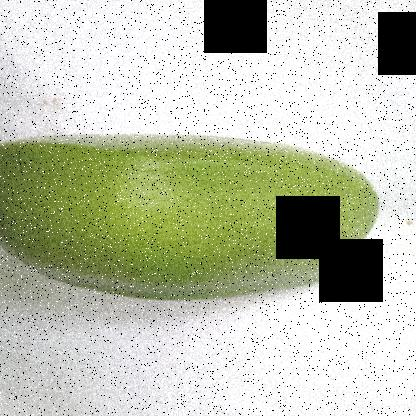freshunripe: (0, 123, 388, 313)
